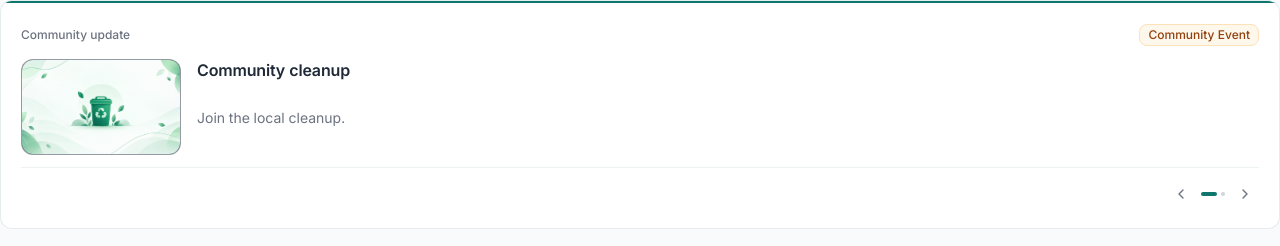
Test: changes slides from the footer without opening a post
Click the button named "Next" at [1245, 194], box [1231,180,1259,208]
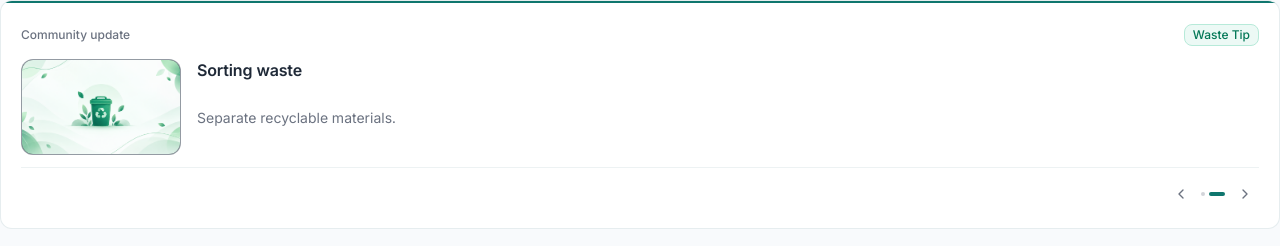
Expected: the text "Sorting waste" is shown, [197,60,302,80]
Click the button named "Previous" at [1181, 194], box [1167,180,1195,208]
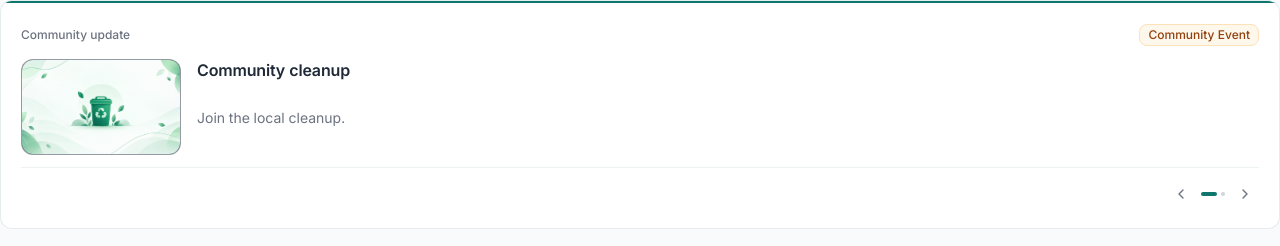
Expected: the text "Community cleanup" is shown, [197,60,350,80]
Click the button named "Post 2" at [1223, 194], box [1221,192,1225,196]
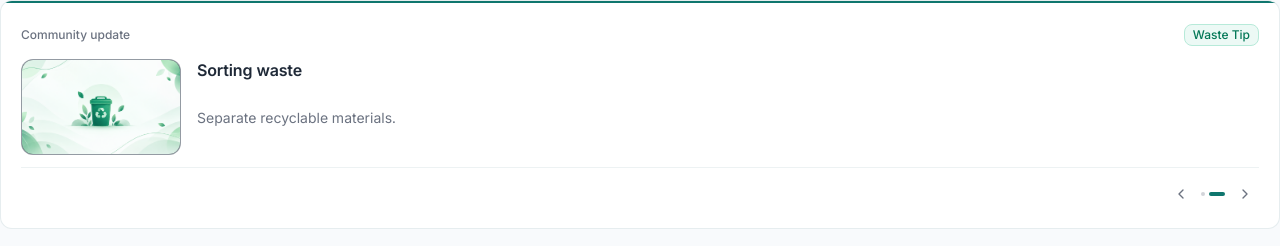
Expected: the text "Sorting waste" is shown, [197,60,302,80]
